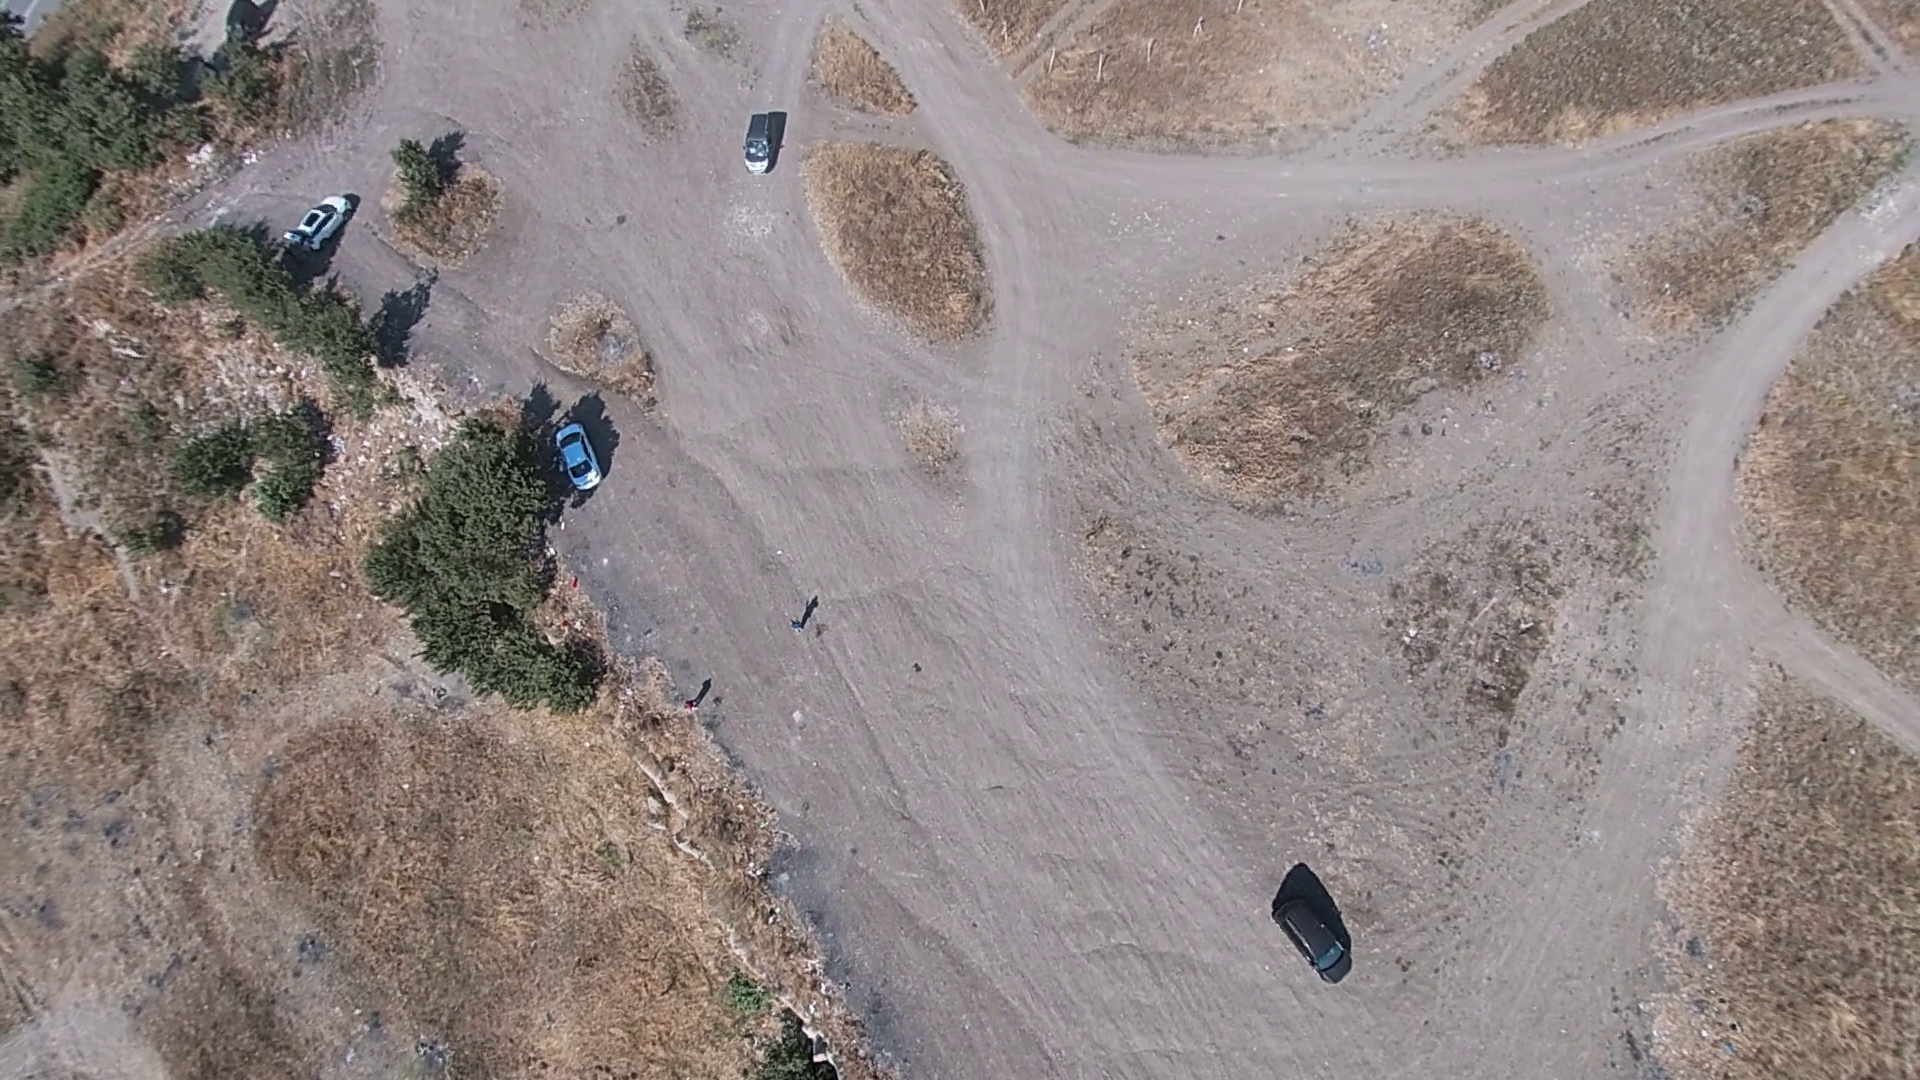arac: (1269, 872, 1354, 980), (280, 187, 355, 256), (545, 418, 604, 495), (734, 107, 784, 171), (785, 592, 815, 633)
insan: (679, 696, 704, 719)
